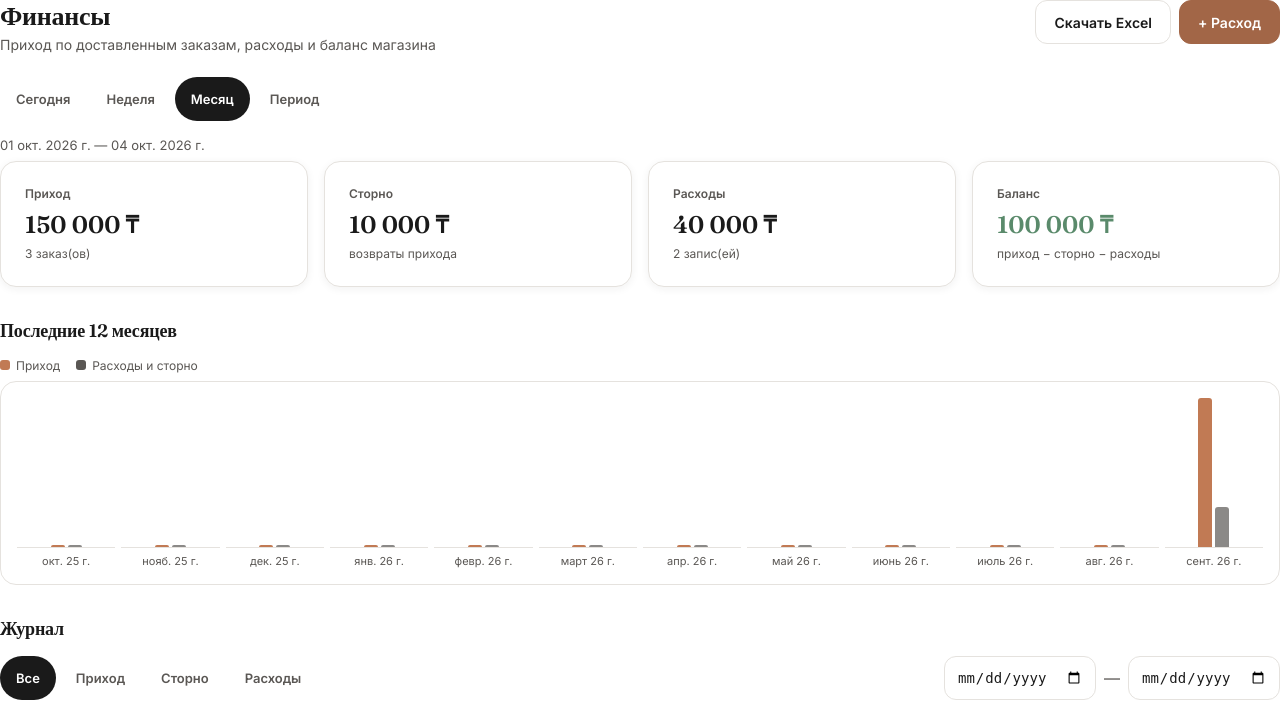
Test case: adding an expense › sends the expense, closes, thanks, and reloads the figures
This screenshot has width=1280, height=720.
Click the button "+ Расход".
click(1230, 22)  # box [1179,0,1279,44]
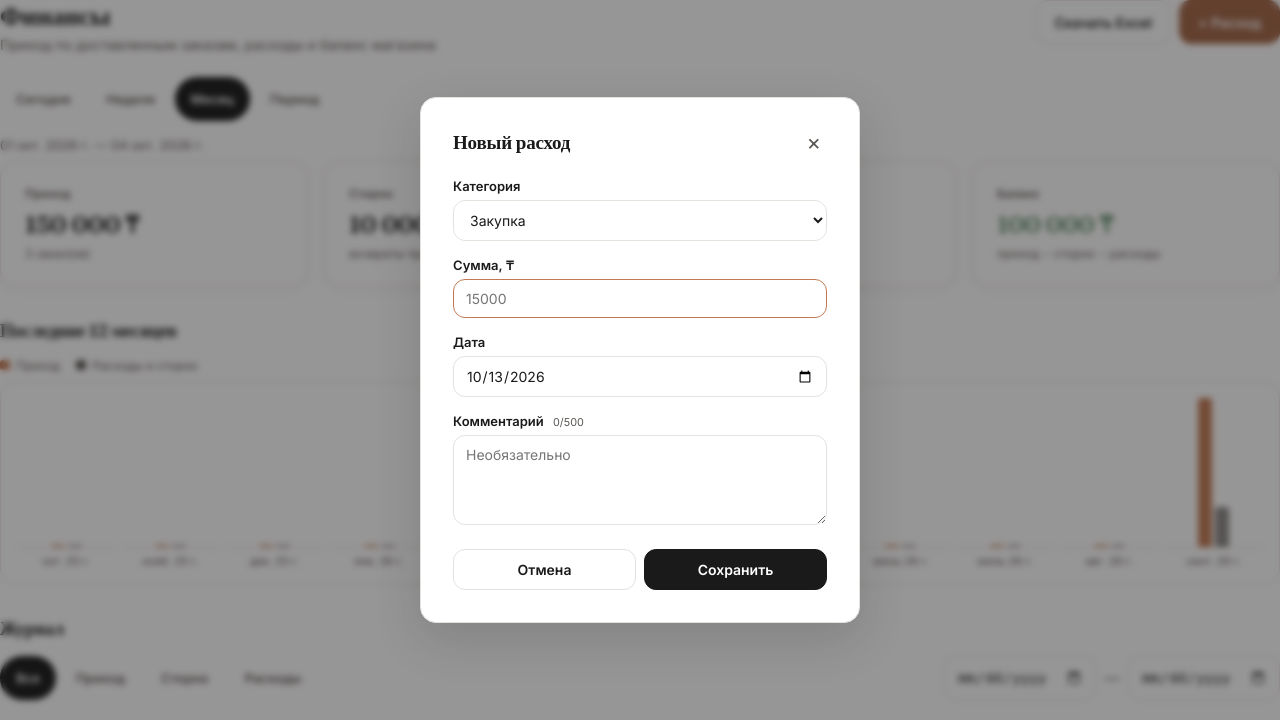
Select "Доставка" in the dropdown labelled "Категория" at (640, 220), box [453,200,827,241]
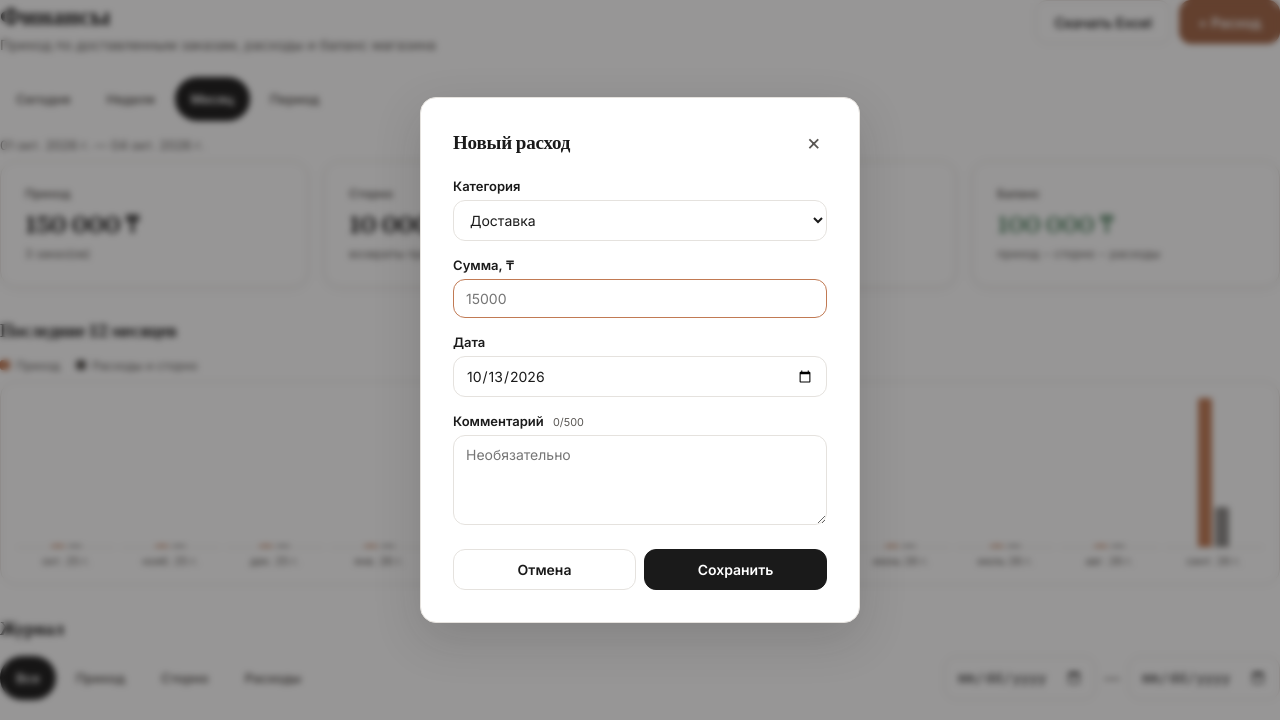
Type "15 000" into the field with placeholder "15000".
click(640, 298); type("15 000")  # box [453,279,827,318]
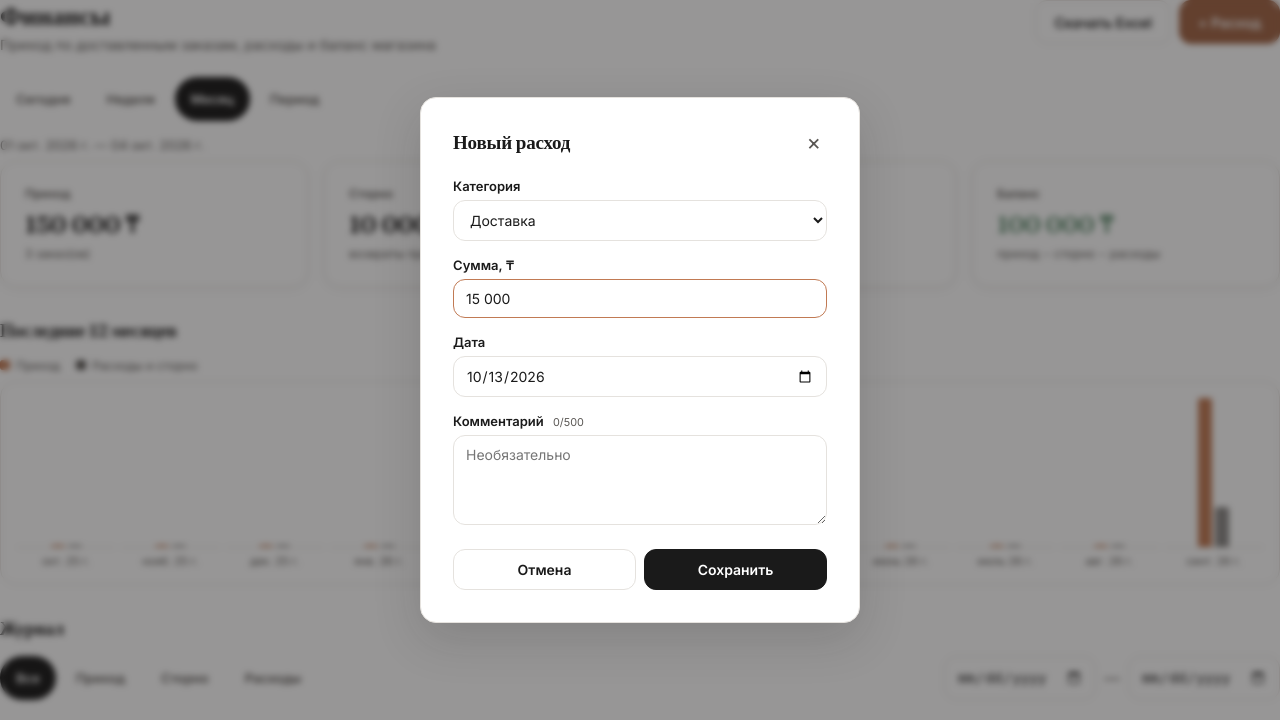
Type "  Курьер  " into the text box with placeholder "Необязательно".
click(640, 480); type("  Курьер  ")  # box [453,435,827,525]
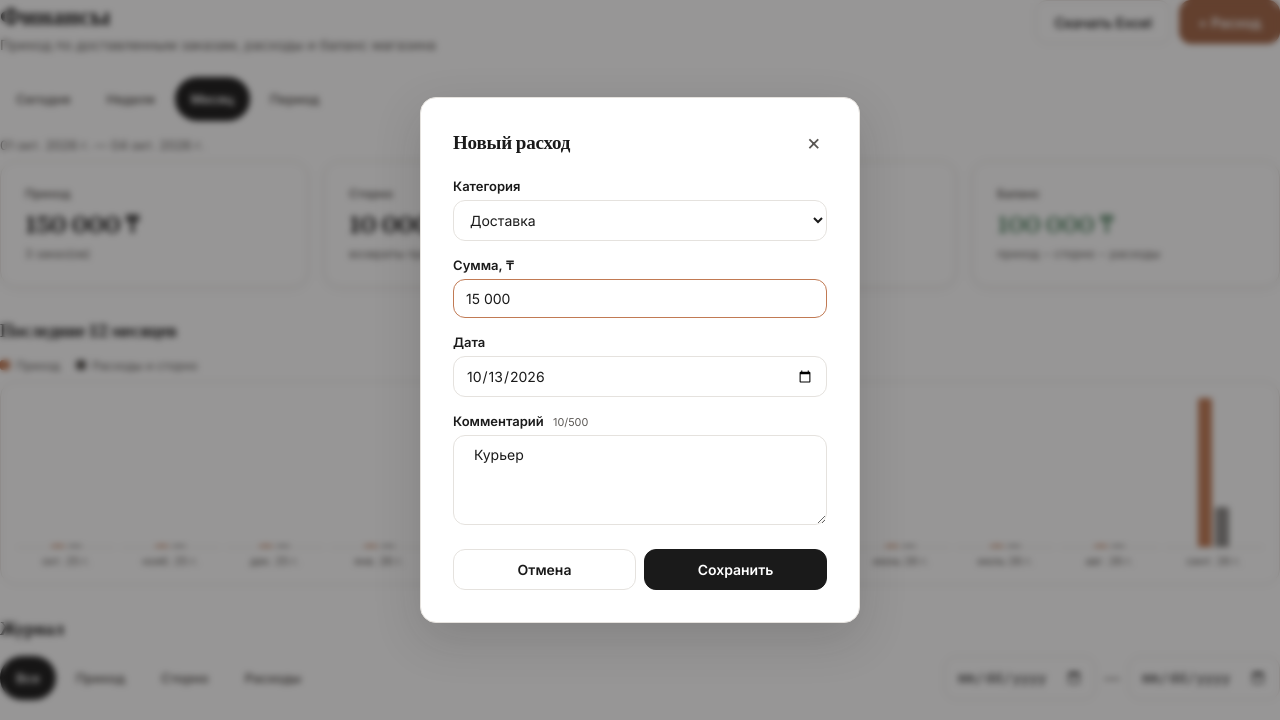
Click the button "Сохранить".
click(736, 570)  # box [644,549,827,590]
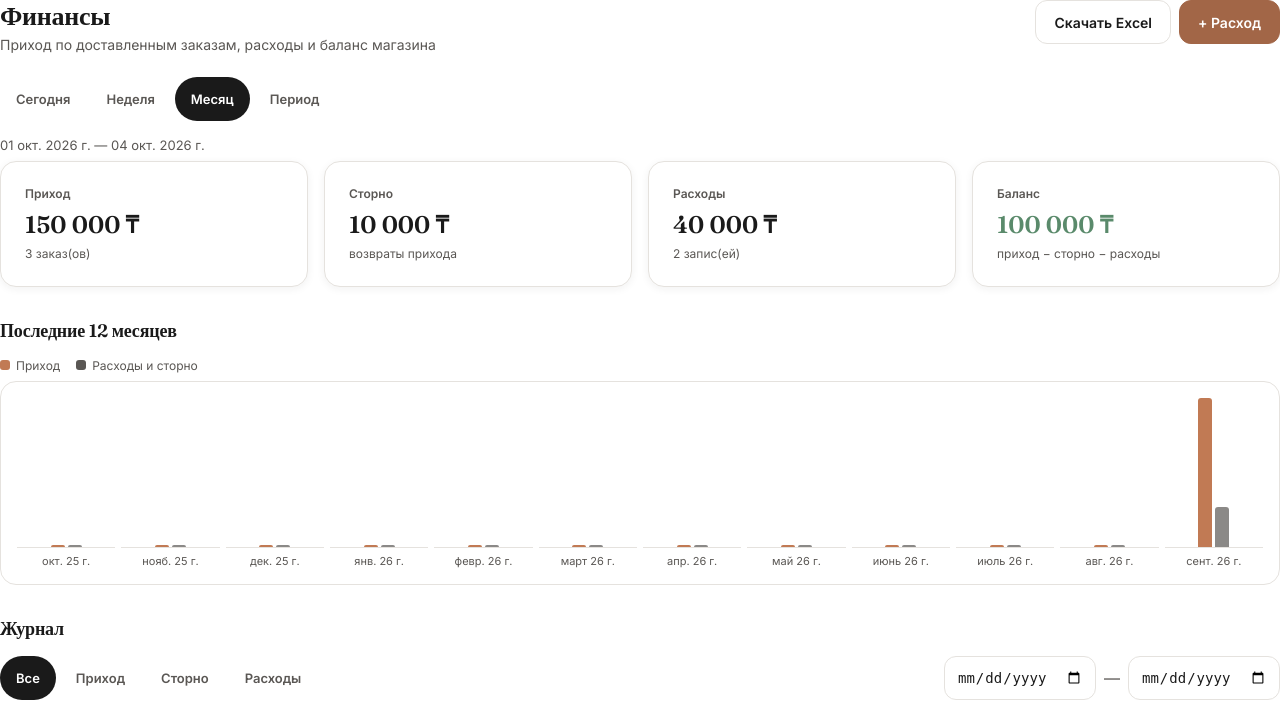
Now the dialog is gone
